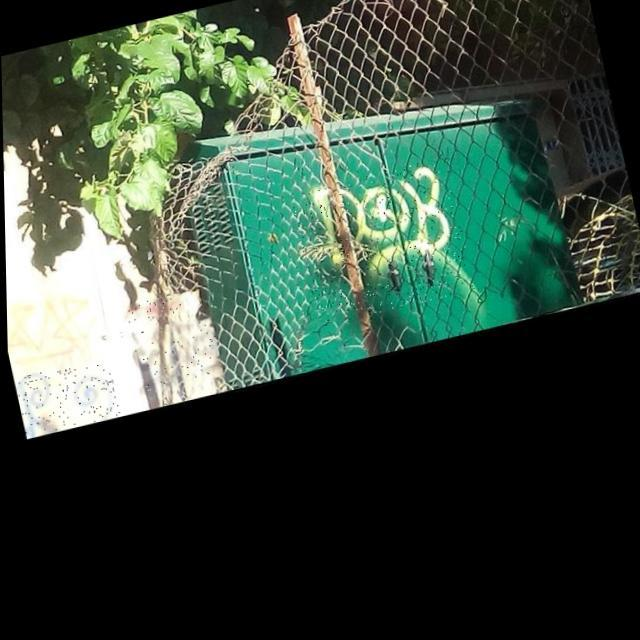-: (289, 160, 474, 331), (12, 357, 119, 439), (128, 316, 222, 396), (124, 294, 184, 326)
